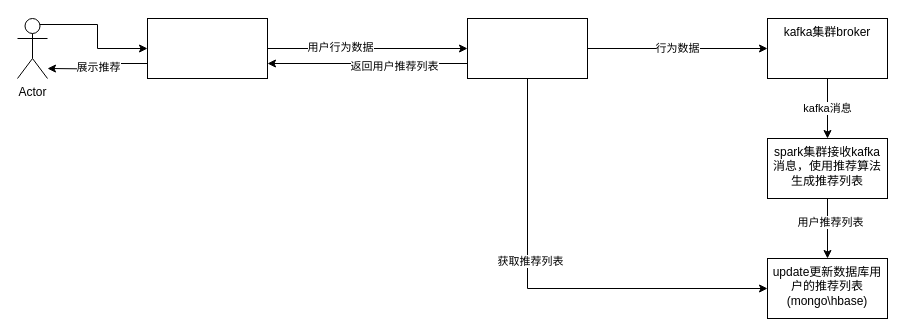
Some shapes in this 905 by 336 pixel diagram are drawn without their labels. Here are the shapes that lost their labels. From the top down, the centre of each, then its label:
the point at 207,48: 前端交互，调用接口，发送点击\浏览\购买\评分行为数据
the point at 527,48: 后端接收数据，处理用户响应，并发送用户行为数据
